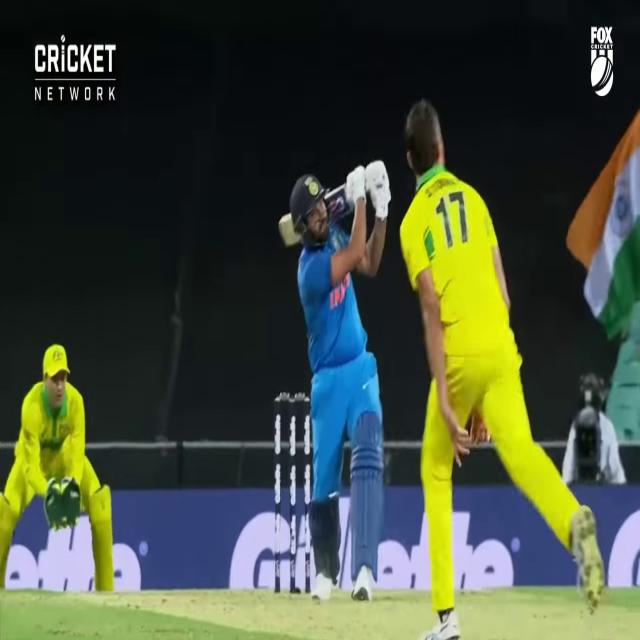stump: (274, 393, 311, 599)
